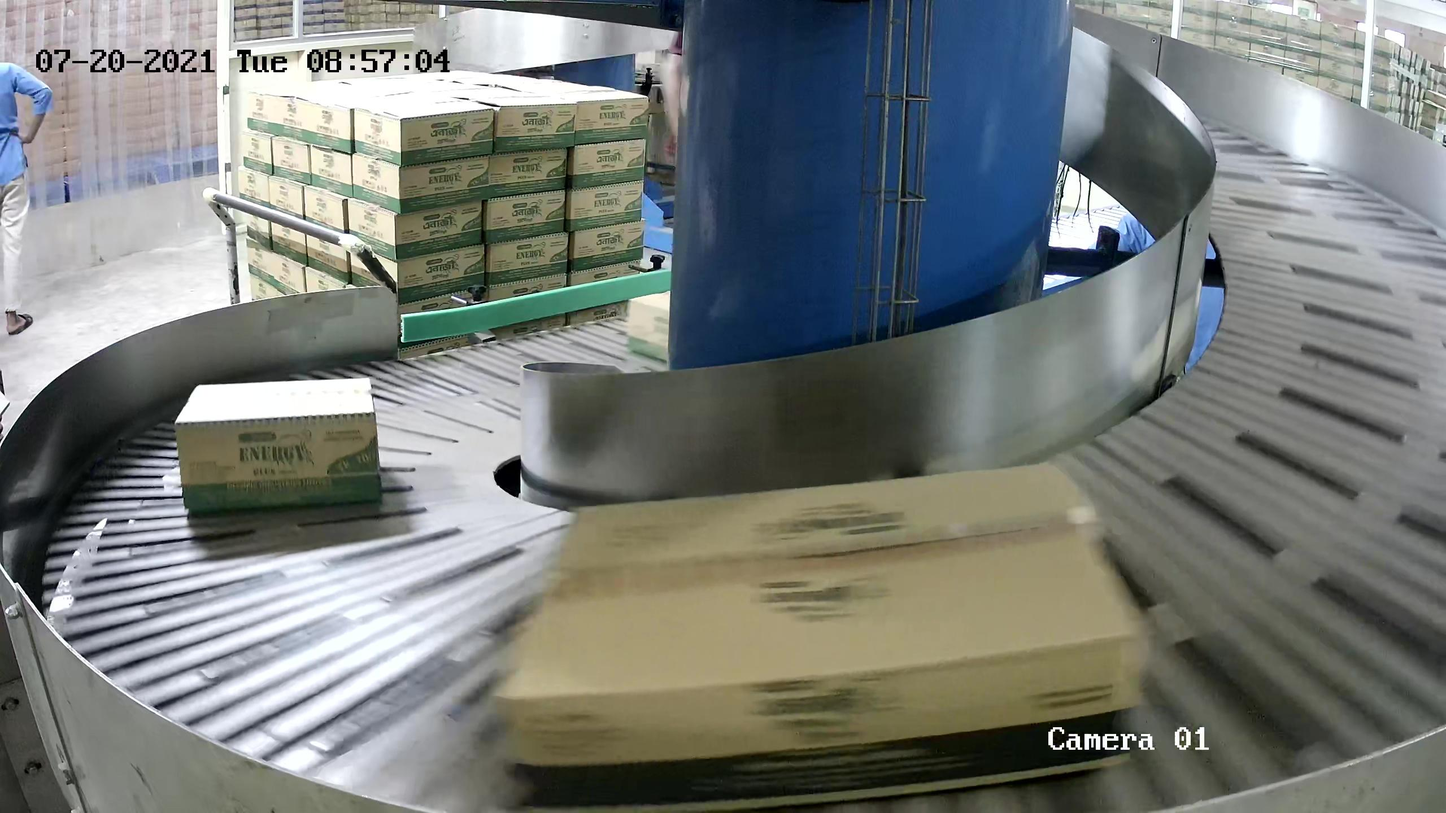Box: (488, 458, 1154, 813), (173, 376, 384, 510), (627, 289, 670, 361)
